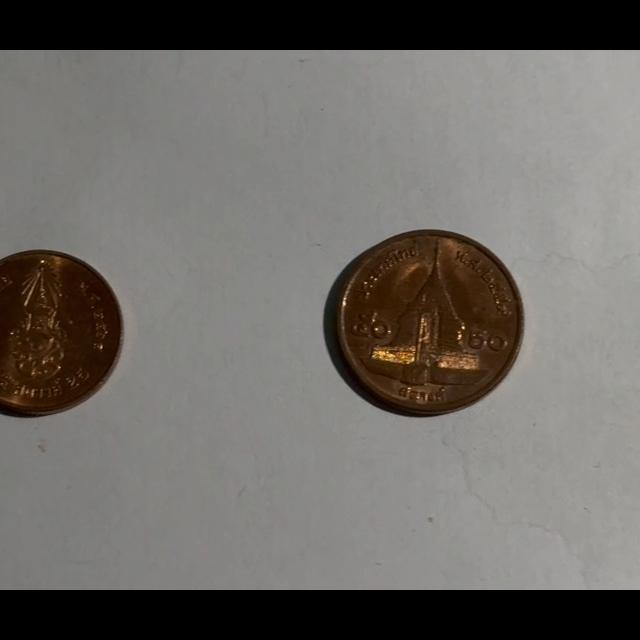25-satang: (0, 251, 121, 414)
50-satang: (329, 232, 520, 414)
